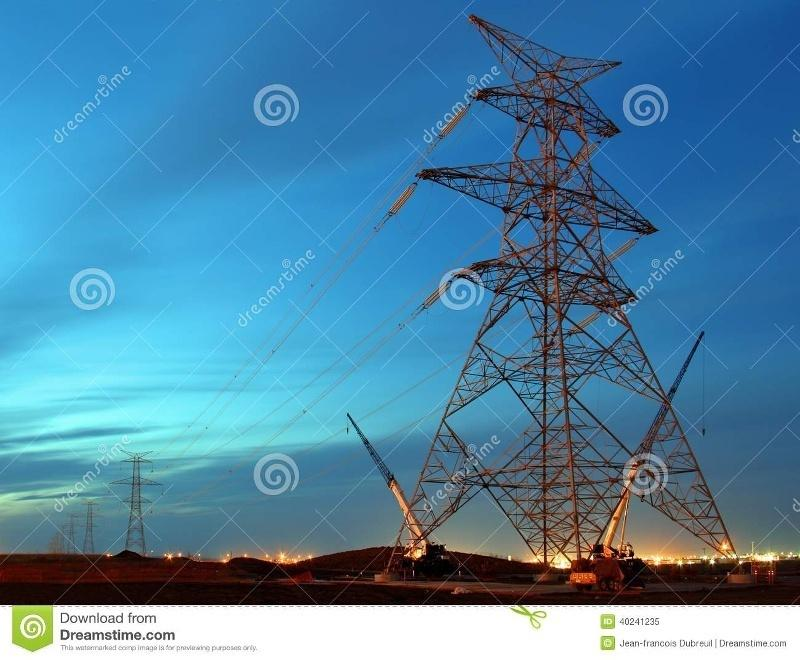power_tower: (441, 6, 701, 544)
